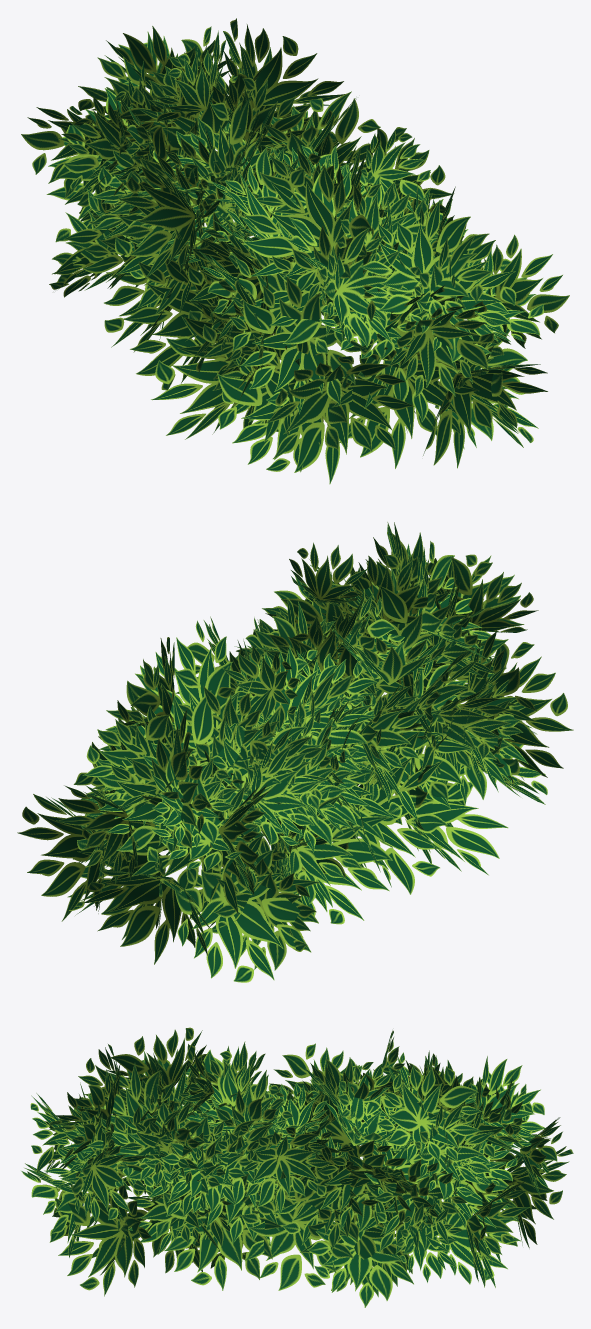
The model's file is Bush2_LOD0.fbx.
3 views of the same model, one above another, from view 1: azimuth 30°, elevation 25°; view 2: azimuth 150°, elevation 25°; view 3: azimuth 270°, elevation 25° (orthographic). The views are drawn at different scales.
Visible parts, largest first — view 1: Bush2; view 2: Bush2; view 3: Bush2.
Part boxes in pixels (<box>): Bush2: <box>21,18,569,484</box>; Bush2: <box>17,522,573,982</box>; Bush2: <box>21,1027,573,1307</box>.
Size of the model in its own units: 245 by 230 by 466.
